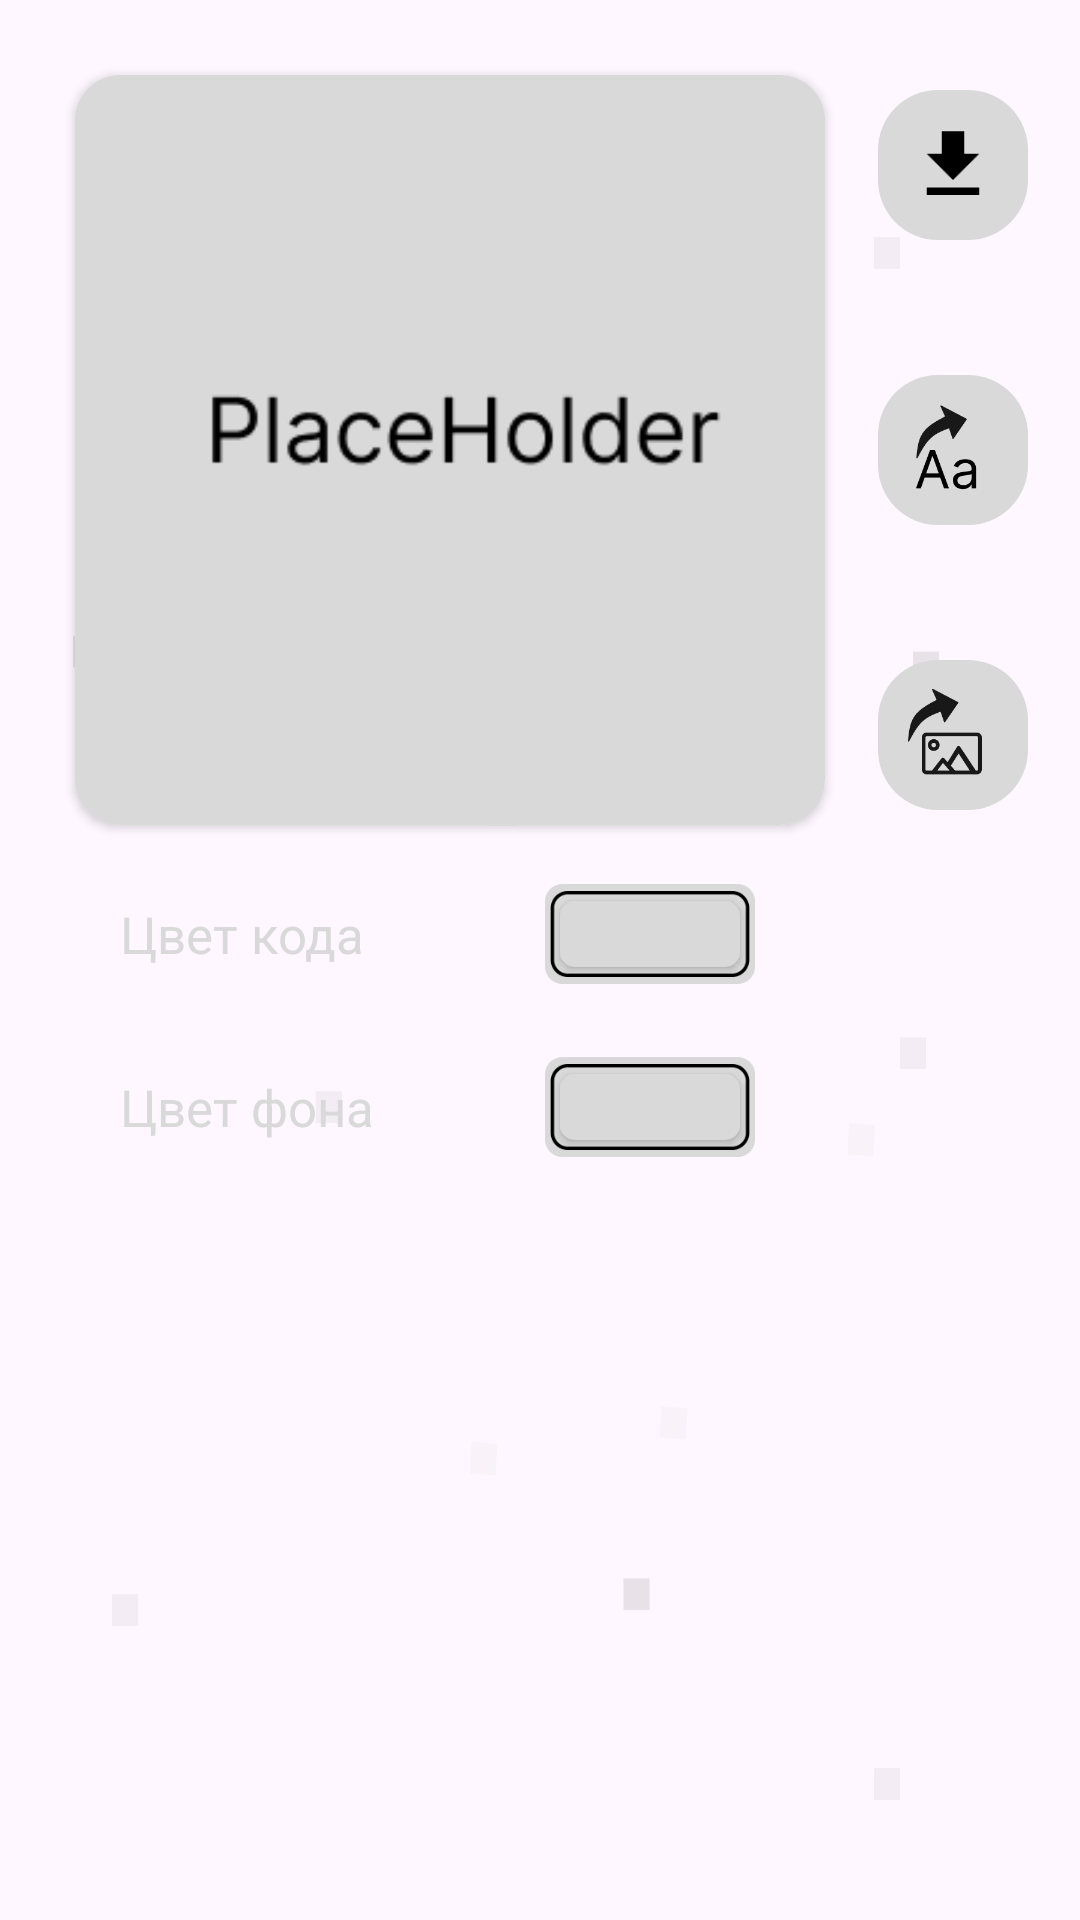

Icons on this 1080px×1920px Android screen, each with the point to tap as [x,y]:
download: [953,165]
share: [953,735]
share text: [953,450]
